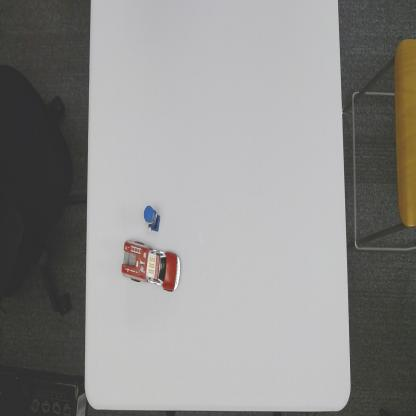Firetruck: (121, 238, 181, 295)
